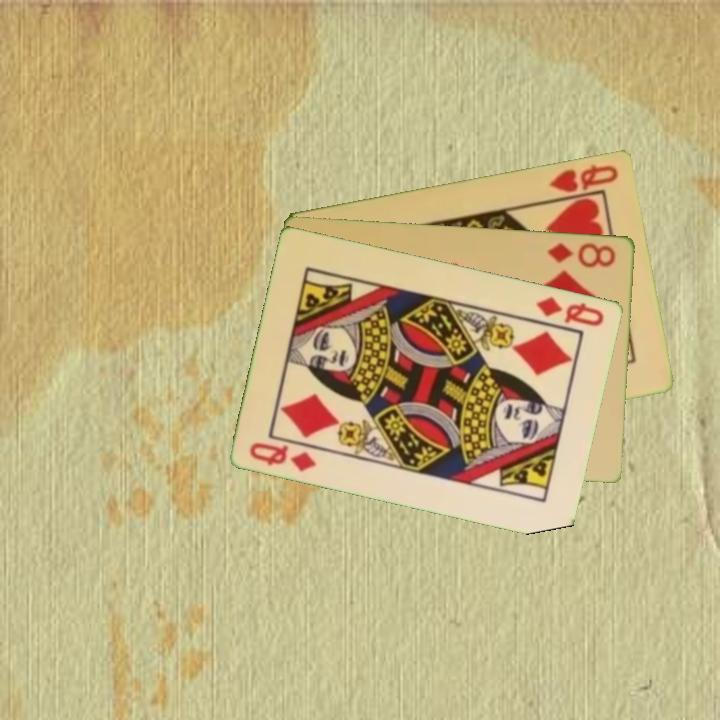8d: (544, 238, 619, 270)
Qd: (246, 438, 320, 475), (532, 293, 608, 329)
Qh: (545, 160, 621, 195)
